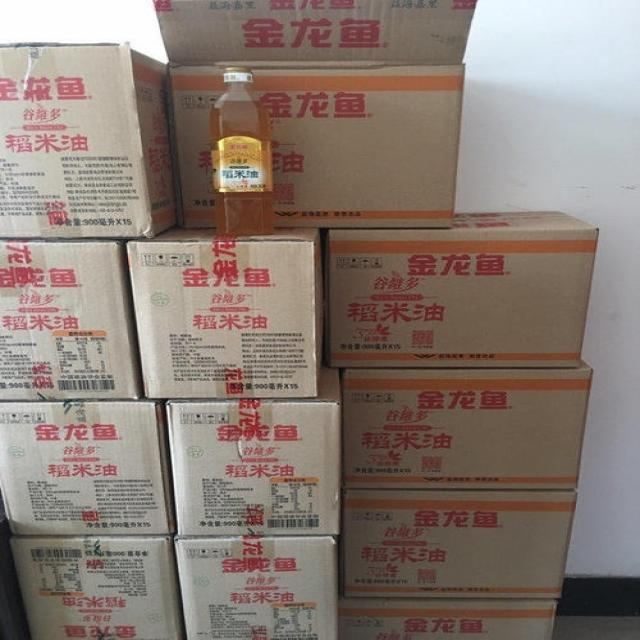box: (151, 0, 477, 230), (328, 210, 601, 367), (0, 44, 180, 241), (126, 230, 328, 397), (342, 362, 592, 492), (165, 366, 342, 536), (342, 490, 579, 600), (0, 401, 175, 535), (0, 242, 143, 399), (11, 537, 181, 639), (172, 536, 338, 639), (338, 598, 555, 639)
